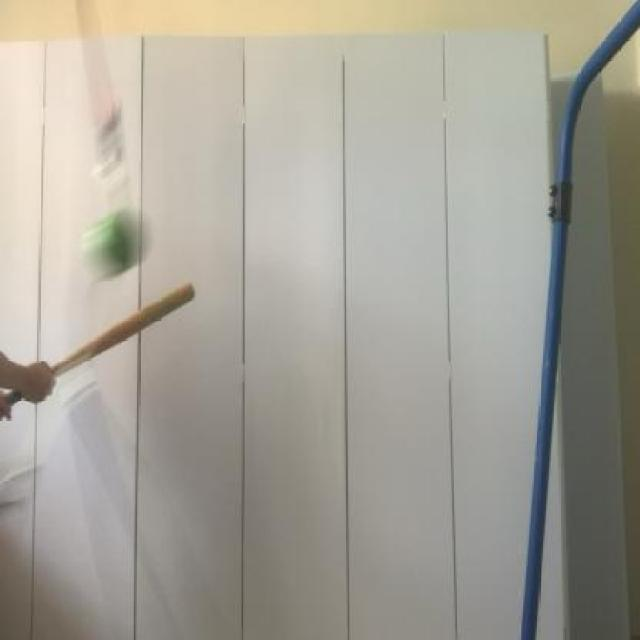baseball: (78, 196, 147, 292)
